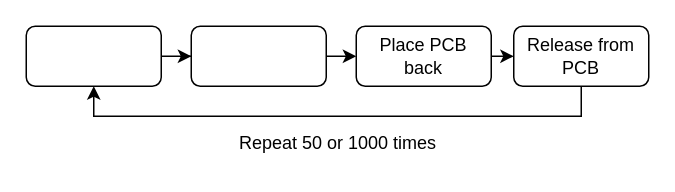
The diagram is 675 pixels wide and 192 high, and some of its shapes have lost their labels. Each missing label, with the box of its shape:
Grip PCB: (25, 25, 161, 86)
Lift PCB: (190, 25, 326, 86)
